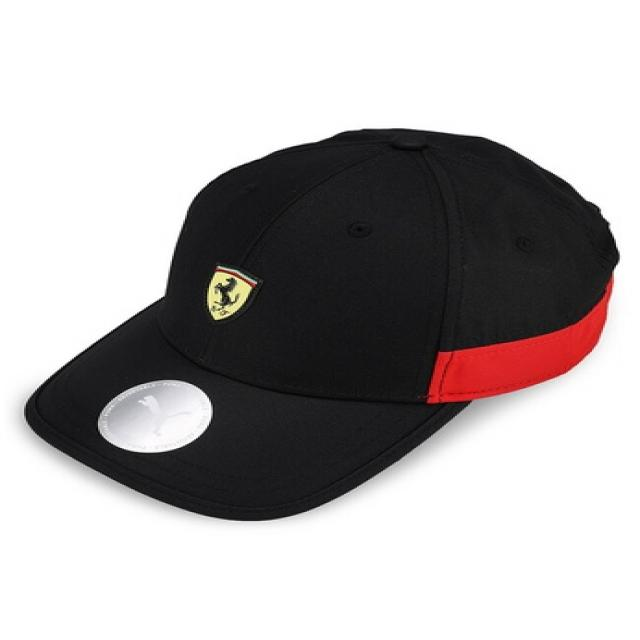mask: (27, 116, 638, 516)
